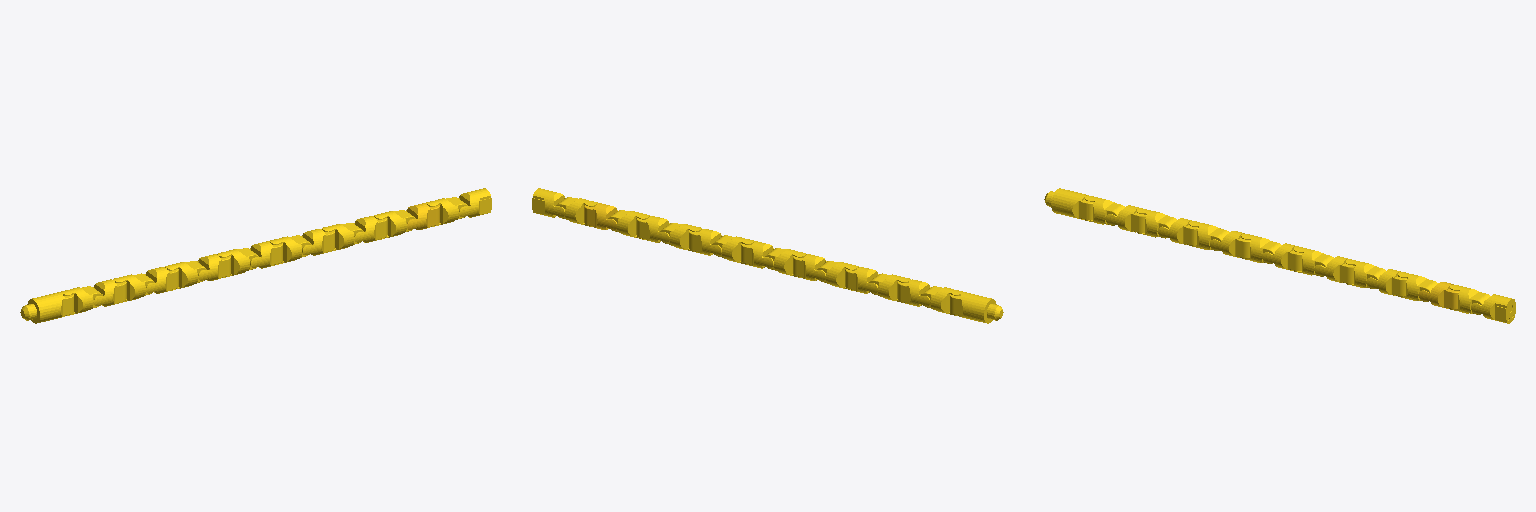
The robot description file, URDF, robot "kanake6_sim":
<?xml version="1.0" encoding="utf-8"?>
<!-- This URDF was automatically created by SolidWorks to URDF Exporter! Originally created by Stephen Brawner (brawner@gmail.com) 
     Commit Version: 1.6.0-1-g15f4949  Build Version: 1.6.7594.29634
     For more information, please see http://wiki.ros.org/sw_urdf_exporter -->
<robot
  name="kanake6_sim">
  <link
    name="tail">
    <inertial>
      <origin
        xyz="0.042357 2.0001E-08 -2.3091E-09"
        rpy="0 0 0" />
      <mass
        value="0.097262" />
      <inertia
        ixx="1.3388E-05"
        ixy="-1.0303E-11"
        ixz="1.1792E-12"
        iyy="4.4738E-05"
        iyz="-3.263E-13"
        izz="4.3885E-05" />
    </inertial>
    <visual>
      <origin
        xyz="0 0 0"
        rpy="0 0 0" />
      <geometry>
        <mesh
          filename="package://kanake6_sim/meshes/tail.STL" />
      </geometry>
      <material
        name="">
        <color
          rgba="1 0.8629 0.1568 1" />
      </material>
    </visual>
    <collision>
      <origin
        xyz="0 0 0"
        rpy="0 0 0" />
      <geometry>
        <mesh
          filename="package://kanake6_sim/meshes/tail.STL" />
      </geometry>
    </collision>
  </link>
  <link
    name="Link15">
    <inertial>
      <origin
        xyz="0.028014 -4.451E-09 2.2161E-08"
        rpy="0 0 0" />
      <mass
        value="0.06907" />
      <inertia
        ixx="9.6694E-06"
        ixy="-1.3944E-11"
        ixz="8.3913E-12"
        iyy="1.5822E-05"
        iyz="9.5867E-11"
        izz="1.5931E-05" />
    </inertial>
    <visual>
      <origin
        xyz="0 0 0"
        rpy="0 0 0" />
      <geometry>
        <mesh
          filename="package://kanake6_sim/meshes/Link15.STL" />
      </geometry>
      <material
        name="">
        <color
          rgba="1 0.8629 0.1568 1" />
      </material>
    </visual>
    <collision>
      <origin
        xyz="0 0 0"
        rpy="0 0 0" />
      <geometry>
        <mesh
          filename="package://kanake6_sim/meshes/Link15.STL" />
      </geometry>
    </collision>
  </link>
  <joint
    name="j16"
    type="revolute">
    <origin
      xyz="0.07155 0 0"
      rpy="0 0 0" />
    <parent
      link="tail" />
    <child
      link="Link15" />
    <axis
      xyz="0 0 1" />
    <limit
      effort="10"
      velocity="10" />
  </joint>
  <link
    name="Link14">
    <inertial>
      <origin
        xyz="0.028014 -4.451E-09 2.2161E-08"
        rpy="0 0 0" />
      <mass
        value="0.06907" />
      <inertia
        ixx="9.6694E-06"
        ixy="-1.3944E-11"
        ixz="8.3913E-12"
        iyy="1.5822E-05"
        iyz="9.5867E-11"
        izz="1.5931E-05" />
    </inertial>
    <visual>
      <origin
        xyz="0 0 0"
        rpy="0 0 0" />
      <geometry>
        <mesh
          filename="package://kanake6_sim/meshes/Link14.STL" />
      </geometry>
      <material
        name="">
        <color
          rgba="1 0.8629 0.1568 1" />
      </material>
    </visual>
    <collision>
      <origin
        xyz="0 0 0"
        rpy="0 0 0" />
      <geometry>
        <mesh
          filename="package://kanake6_sim/meshes/Link14.STL" />
      </geometry>
    </collision>
  </link>
  <joint
    name="j15"
    type="revolute">
    <origin
      xyz="0.0426 0 0"
      rpy="-1.5708 0 0" />
    <parent
      link="Link15" />
    <child
      link="Link14" />
    <axis
      xyz="0 0 1" />
    <limit
      effort="10"
      velocity="10" />
  </joint>
  <link
    name="Link13">
    <inertial>
      <origin
        xyz="0.028014 -4.451E-09 2.2161E-08"
        rpy="0 0 0" />
      <mass
        value="0.06907" />
      <inertia
        ixx="9.6694E-06"
        ixy="-1.3944E-11"
        ixz="8.3913E-12"
        iyy="1.5822E-05"
        iyz="9.5867E-11"
        izz="1.5931E-05" />
    </inertial>
    <visual>
      <origin
        xyz="0 0 0"
        rpy="0 0 0" />
      <geometry>
        <mesh
          filename="package://kanake6_sim/meshes/Link13.STL" />
      </geometry>
      <material
        name="">
        <color
          rgba="1 0.8629 0.1568 1" />
      </material>
    </visual>
    <collision>
      <origin
        xyz="0 0 0"
        rpy="0 0 0" />
      <geometry>
        <mesh
          filename="package://kanake6_sim/meshes/Link13.STL" />
      </geometry>
    </collision>
  </link>
  <joint
    name="j14"
    type="revolute">
    <origin
      xyz="0.0426 0 0"
      rpy="1.5708 0 0" />
    <parent
      link="Link14" />
    <child
      link="Link13" />
    <axis
      xyz="0 0 1" />
    <limit
      effort="10"
      velocity="10" />
  </joint>
  <link
    name="Link12">
    <inertial>
      <origin
        xyz="0.028014 -4.451E-09 2.2161E-08"
        rpy="0 0 0" />
      <mass
        value="0.06907" />
      <inertia
        ixx="9.6694E-06"
        ixy="-1.3944E-11"
        ixz="8.3913E-12"
        iyy="1.5822E-05"
        iyz="9.5867E-11"
        izz="1.5931E-05" />
    </inertial>
    <visual>
      <origin
        xyz="0 0 0"
        rpy="0 0 0" />
      <geometry>
        <mesh
          filename="package://kanake6_sim/meshes/Link12.STL" />
      </geometry>
      <material
        name="">
        <color
          rgba="1 0.8629 0.1568 1" />
      </material>
    </visual>
    <collision>
      <origin
        xyz="0 0 0"
        rpy="0 0 0" />
      <geometry>
        <mesh
          filename="package://kanake6_sim/meshes/Link12.STL" />
      </geometry>
    </collision>
  </link>
  <joint
    name="j13"
    type="revolute">
    <origin
      xyz="0.0426 0 0"
      rpy="-1.5708 0 0" />
    <parent
      link="Link13" />
    <child
      link="Link12" />
    <axis
      xyz="0 0 1" />
    <limit
      effort="10"
      velocity="10" />
  </joint>
  <link
    name="Link11">
    <inertial>
      <origin
        xyz="0.028014 -4.451E-09 2.2161E-08"
        rpy="0 0 0" />
      <mass
        value="0.06907" />
      <inertia
        ixx="9.6694E-06"
        ixy="-1.3944E-11"
        ixz="8.3913E-12"
        iyy="1.5822E-05"
        iyz="9.5867E-11"
        izz="1.5931E-05" />
    </inertial>
    <visual>
      <origin
        xyz="0 0 0"
        rpy="0 0 0" />
      <geometry>
        <mesh
          filename="package://kanake6_sim/meshes/Link11.STL" />
      </geometry>
      <material
        name="">
        <color
          rgba="1 0.8629 0.1568 1" />
      </material>
    </visual>
    <collision>
      <origin
        xyz="0 0 0"
        rpy="0 0 0" />
      <geometry>
        <mesh
          filename="package://kanake6_sim/meshes/Link11.STL" />
      </geometry>
    </collision>
  </link>
  <joint
    name="j12"
    type="revolute">
    <origin
      xyz="0.0426 0 0"
      rpy="1.5708 0 0" />
    <parent
      link="Link12" />
    <child
      link="Link11" />
    <axis
      xyz="0 0 1" />
    <limit
      effort="10"
      velocity="10" />
  </joint>
  <link
    name="Link10">
    <inertial>
      <origin
        xyz="0.028014 -4.451E-09 2.2161E-08"
        rpy="0 0 0" />
      <mass
        value="0.06907" />
      <inertia
        ixx="9.6694E-06"
        ixy="-1.3944E-11"
        ixz="8.3913E-12"
        iyy="1.5822E-05"
        iyz="9.5867E-11"
        izz="1.5931E-05" />
    </inertial>
    <visual>
      <origin
        xyz="0 0 0"
        rpy="0 0 0" />
      <geometry>
        <mesh
          filename="package://kanake6_sim/meshes/Link10.STL" />
      </geometry>
      <material
        name="">
        <color
          rgba="1 0.8629 0.1568 1" />
      </material>
    </visual>
    <collision>
      <origin
        xyz="0 0 0"
        rpy="0 0 0" />
      <geometry>
        <mesh
          filename="package://kanake6_sim/meshes/Link10.STL" />
      </geometry>
    </collision>
  </link>
  <joint
    name="j11"
    type="revolute">
    <origin
      xyz="0.0426 0 0"
      rpy="-1.5708 0 0" />
    <parent
      link="Link11" />
    <child
      link="Link10" />
    <axis
      xyz="0 0 1" />
    <limit
      effort="10"
      velocity="10" />
  </joint>
  <link
    name="Link9">
    <inertial>
      <origin
        xyz="0.028014 -4.451E-09 2.2161E-08"
        rpy="0 0 0" />
      <mass
        value="0.06907" />
      <inertia
        ixx="9.6694E-06"
        ixy="-1.3944E-11"
        ixz="8.3913E-12"
        iyy="1.5822E-05"
        iyz="9.5867E-11"
        izz="1.5931E-05" />
    </inertial>
    <visual>
      <origin
        xyz="0 0 0"
        rpy="0 0 0" />
      <geometry>
        <mesh
          filename="package://kanake6_sim/meshes/Link9.STL" />
      </geometry>
      <material
        name="">
        <color
          rgba="1 0.8629 0.1568 1" />
      </material>
    </visual>
    <collision>
      <origin
        xyz="0 0 0"
        rpy="0 0 0" />
      <geometry>
        <mesh
          filename="package://kanake6_sim/meshes/Link9.STL" />
      </geometry>
    </collision>
  </link>
  <joint
    name="j10"
    type="revolute">
    <origin
      xyz="0.0426 0 0"
      rpy="1.5708 0 0" />
    <parent
      link="Link10" />
    <child
      link="Link9" />
    <axis
      xyz="0 0 1" />
    <limit
      effort="10"
      velocity="10" />
  </joint>
  <link
    name="Link8">
    <inertial>
      <origin
        xyz="0.028014 -4.451E-09 2.2161E-08"
        rpy="0 0 0" />
      <mass
        value="0.06907" />
      <inertia
        ixx="9.6694E-06"
        ixy="-1.3944E-11"
        ixz="8.3913E-12"
        iyy="1.5822E-05"
        iyz="9.5867E-11"
        izz="1.5931E-05" />
    </inertial>
    <visual>
      <origin
        xyz="0 0 0"
        rpy="0 0 0" />
      <geometry>
        <mesh
          filename="package://kanake6_sim/meshes/Link8.STL" />
      </geometry>
      <material
        name="">
        <color
          rgba="1 0.8629 0.1568 1" />
      </material>
    </visual>
    <collision>
      <origin
        xyz="0 0 0"
        rpy="0 0 0" />
      <geometry>
        <mesh
          filename="package://kanake6_sim/meshes/Link8.STL" />
      </geometry>
    </collision>
  </link>
  <joint
    name="j9"
    type="revolute">
    <origin
      xyz="0.0426 0 0"
      rpy="-1.5708 0 0" />
    <parent
      link="Link9" />
    <child
      link="Link8" />
    <axis
      xyz="0 0 1" />
    <limit
      effort="10"
      velocity="10" />
  </joint>
  <link
    name="Link7">
    <inertial>
      <origin
        xyz="0.028014 -4.451E-09 2.2161E-08"
        rpy="0 0 0" />
      <mass
        value="0.06907" />
      <inertia
        ixx="9.6694E-06"
        ixy="-1.3944E-11"
        ixz="8.3913E-12"
        iyy="1.5822E-05"
        iyz="9.5867E-11"
        izz="1.5931E-05" />
    </inertial>
    <visual>
      <origin
        xyz="0 0 0"
        rpy="0 0 0" />
      <geometry>
        <mesh
          filename="package://kanake6_sim/meshes/Link7.STL" />
      </geometry>
      <material
        name="">
        <color
          rgba="1 0.8629 0.1568 1" />
      </material>
    </visual>
    <collision>
      <origin
        xyz="0 0 0"
        rpy="0 0 0" />
      <geometry>
        <mesh
          filename="package://kanake6_sim/meshes/Link7.STL" />
      </geometry>
    </collision>
  </link>
  <joint
    name="j8"
    type="revolute">
    <origin
      xyz="0.0426 0 0"
      rpy="1.5708 0 0" />
    <parent
      link="Link8" />
    <child
      link="Link7" />
    <axis
      xyz="0 0 1" />
    <limit
      effort="10"
      velocity="10" />
  </joint>
  <link
    name="Link6">
    <inertial>
      <origin
        xyz="0.028014 -4.451E-09 2.2161E-08"
        rpy="0 0 0" />
      <mass
        value="0.06907" />
      <inertia
        ixx="9.6694E-06"
        ixy="-1.3944E-11"
        ixz="8.3913E-12"
        iyy="1.5822E-05"
        iyz="9.5867E-11"
        izz="1.5931E-05" />
    </inertial>
    <visual>
      <origin
        xyz="0 0 0"
        rpy="0 0 0" />
      <geometry>
        <mesh
          filename="package://kanake6_sim/meshes/Link6.STL" />
      </geometry>
      <material
        name="">
        <color
          rgba="1 0.8629 0.1568 1" />
      </material>
    </visual>
    <collision>
      <origin
        xyz="0 0 0"
        rpy="0 0 0" />
      <geometry>
        <mesh
          filename="package://kanake6_sim/meshes/Link6.STL" />
      </geometry>
    </collision>
  </link>
  <joint
    name="j7"
    type="revolute">
    <origin
      xyz="0.0426 0 0"
      rpy="-1.5708 0 0" />
    <parent
      link="Link7" />
    <child
      link="Link6" />
    <axis
      xyz="0 0 1" />
    <limit
      effort="10"
      velocity="10" />
  </joint>
  <link
    name="Link5">
    <inertial>
      <origin
        xyz="0.028014 -4.451E-09 2.2161E-08"
        rpy="0 0 0" />
      <mass
        value="0.06907" />
      <inertia
        ixx="9.6694E-06"
        ixy="-1.3944E-11"
        ixz="8.3913E-12"
        iyy="1.5822E-05"
        iyz="9.5867E-11"
        izz="1.5931E-05" />
    </inertial>
    <visual>
      <origin
        xyz="0 0 0"
        rpy="0 0 0" />
      <geometry>
        <mesh
          filename="package://kanake6_sim/meshes/Link5.STL" />
      </geometry>
      <material
        name="">
        <color
          rgba="1 0.8629 0.1568 1" />
      </material>
    </visual>
    <collision>
      <origin
        xyz="0 0 0"
        rpy="0 0 0" />
      <geometry>
        <mesh
          filename="package://kanake6_sim/meshes/Link5.STL" />
      </geometry>
    </collision>
  </link>
  <joint
    name="j6"
    type="revolute">
    <origin
      xyz="0.0426 0 0"
      rpy="1.5708 0 0" />
    <parent
      link="Link6" />
    <child
      link="Link5" />
    <axis
      xyz="0 0 1" />
    <limit
      effort="10"
      velocity="10" />
  </joint>
  <link
    name="Link4">
    <inertial>
      <origin
        xyz="0.028014 -4.451E-09 2.2161E-08"
        rpy="0 0 0" />
      <mass
        value="0.06907" />
      <inertia
        ixx="9.6694E-06"
        ixy="-1.3944E-11"
        ixz="8.3913E-12"
        iyy="1.5822E-05"
        iyz="9.5867E-11"
        izz="1.5931E-05" />
    </inertial>
    <visual>
      <origin
        xyz="0 0 0"
        rpy="0 0 0" />
      <geometry>
        <mesh
          filename="package://kanake6_sim/meshes/Link4.STL" />
      </geometry>
      <material
        name="">
        <color
          rgba="1 0.8629 0.1568 1" />
      </material>
    </visual>
    <collision>
      <origin
        xyz="0 0 0"
        rpy="0 0 0" />
      <geometry>
        <mesh
          filename="package://kanake6_sim/meshes/Link4.STL" />
      </geometry>
    </collision>
  </link>
  <joint
    name="j5"
    type="revolute">
    <origin
      xyz="0.0426 0 0"
      rpy="-1.5708 0 0" />
    <parent
      link="Link5" />
    <child
      link="Link4" />
    <axis
      xyz="0 0 1" />
    <limit
      effort="10"
      velocity="10" />
  </joint>
  <link
    name="Link3">
    <inertial>
      <origin
        xyz="0.028014 -4.451E-09 2.2161E-08"
        rpy="0 0 0" />
      <mass
        value="0.06907" />
      <inertia
        ixx="9.6694E-06"
        ixy="-1.3944E-11"
        ixz="8.3913E-12"
        iyy="1.5822E-05"
        iyz="9.5867E-11"
        izz="1.5931E-05" />
    </inertial>
    <visual>
      <origin
        xyz="0 0 0"
        rpy="0 0 0" />
      <geometry>
        <mesh
          filename="package://kanake6_sim/meshes/Link3.STL" />
      </geometry>
      <material
        name="">
        <color
          rgba="1 0.8629 0.1568 1" />
      </material>
    </visual>
    <collision>
      <origin
        xyz="0 0 0"
        rpy="0 0 0" />
      <geometry>
        <mesh
          filename="package://kanake6_sim/meshes/Link3.STL" />
      </geometry>
    </collision>
  </link>
  <joint
    name="j4"
    type="revolute">
    <origin
      xyz="0.0426 0 0"
      rpy="1.5708 0 0" />
    <parent
      link="Link4" />
    <child
      link="Link3" />
    <axis
      xyz="0 0 1" />
    <limit
      effort="10"
      velocity="10" />
  </joint>
  <link
    name="Link2">
    <inertial>
      <origin
        xyz="0.028014 -4.451E-09 2.2161E-08"
        rpy="0 0 0" />
      <mass
        value="0.06907" />
      <inertia
        ixx="9.6694E-06"
        ixy="-1.3944E-11"
        ixz="8.3913E-12"
        iyy="1.5822E-05"
        iyz="9.5867E-11"
        izz="1.5931E-05" />
    </inertial>
    <visual>
      <origin
        xyz="0 0 0"
        rpy="0 0 0" />
      <geometry>
        <mesh
          filename="package://kanake6_sim/meshes/Link2.STL" />
      </geometry>
      <material
        name="">
        <color
          rgba="1 0.8269 0.1568 1" />
      </material>
    </visual>
    <collision>
      <origin
        xyz="0 0 0"
        rpy="0 0 0" />
      <geometry>
        <mesh
          filename="package://kanake6_sim/meshes/Link2.STL" />
      </geometry>
    </collision>
  </link>
  <joint
    name="j3"
    type="revolute">
    <origin
      xyz="0.0426 0 0"
      rpy="-1.5708 0 0" />
    <parent
      link="Link3" />
    <child
      link="Link2" />
    <axis
      xyz="0 0 1" />
    <limit
      effort="10"
      velocity="10" />
  </joint>
  <link
    name="Link1">
    <inertial>
      <origin
        xyz="0.028014 -4.451E-09 2.2161E-08"
        rpy="0 0 0" />
      <mass
        value="0.06907" />
      <inertia
        ixx="9.6694E-06"
        ixy="-1.3944E-11"
        ixz="8.3913E-12"
        iyy="1.5822E-05"
        iyz="9.5867E-11"
        izz="1.5931E-05" />
    </inertial>
    <visual>
      <origin
        xyz="0 0 0"
        rpy="0 0 0" />
      <geometry>
        <mesh
          filename="package://kanake6_sim/meshes/Link1.STL" />
      </geometry>
      <material
        name="">
        <color
          rgba="1 0.8629 0.1568 1" />
      </material>
    </visual>
    <collision>
      <origin
        xyz="0 0 0"
        rpy="0 0 0" />
      <geometry>
        <mesh
          filename="package://kanake6_sim/meshes/Link1.STL" />
      </geometry>
    </collision>
  </link>
  <joint
    name="j2"
    type="revolute">
    <origin
      xyz="0.0426 0 0"
      rpy="1.5708 0 0" />
    <parent
      link="Link2" />
    <child
      link="Link1" />
    <axis
      xyz="0 0 1" />
    <limit
      effort="10"
      velocity="10" />
  </joint>
  <link
    name="head">
    <inertial>
      <origin
        xyz="0.0275 1.7311E-06 -1.5899E-07"
        rpy="0 0 0" />
      <mass
        value="0.033765" />
      <inertia
        ixx="5.2247E-06"
        ixy="-1.1806E-09"
        ixz="-6.205E-11"
        iyy="7.0127E-06"
        iyz="3.0927E-11"
        izz="7.2231E-06" />
    </inertial>
    <visual>
      <origin
        xyz="0 0 0"
        rpy="0 0 0" />
      <geometry>
        <mesh
          filename="package://kanake6_sim/meshes/head.STL" />
      </geometry>
      <material
        name="">
        <color
          rgba="1 0.8629 0.1568 1" />
      </material>
    </visual>
    <collision>
      <origin
        xyz="0 0 0"
        rpy="0 0 0" />
      <geometry>
        <mesh
          filename="package://kanake6_sim/meshes/head.STL" />
      </geometry>
    </collision>
  </link>
  <joint
    name="j1"
    type="revolute">
    <origin
      xyz="0.0426 0 0"
      rpy="-1.5708 0 0" />
    <parent
      link="Link1" />
    <child
      link="head" />
    <axis
      xyz="0 0 1" />
    <limit
      effort="10"
      velocity="10" />
  </joint>
</robot>

--- Facts derived from the render (not from the file) ---
The picture shows the robot from 3 angles, left to right: view 1: azimuth 30°, elevation 25°; view 2: azimuth 150°, elevation 25°; view 3: azimuth 330°, elevation 25°; orthographic projection.
Model kanake6_sim with 17 links and 16 joints (16 revolute), rooted at tail, posed every joint at zero.
Visible links, largest first — view 1: tail, head, Link2, Link14, Link12, Link10, Link4, Link8, Link6, Link15, Link5, Link7 (+5 smaller); view 2: tail, head, Link2, Link4, Link14, Link12, Link10, Link8, Link6, Link15, Link5, Link7 (+5 smaller); view 3: tail, head, Link10, Link8, Link6, Link2, Link4, Link14, Link12, Link11, Link13, Link1 (+5 smaller).
Boxes of the visible links, x1,y1,x2,y2 form: tail: [20, 292, 73, 323]; head: [459, 188, 491, 217]; Link2: [406, 203, 439, 229]; Link14: [93, 279, 126, 306]; Link12: [145, 267, 178, 293]; Link10: [197, 254, 230, 280]; Link4: [354, 216, 387, 242]; Link8: [250, 241, 282, 268]; Link6: [302, 229, 334, 255]; Link15: [61, 286, 102, 315]; Link5: [322, 223, 363, 252]; Link7: [270, 235, 311, 265]; tail: [950, 292, 1003, 323]; head: [532, 188, 564, 217]; Link2: [584, 203, 617, 229]; Link4: [636, 216, 669, 242]; Link14: [897, 279, 930, 306]; Link12: [845, 267, 878, 293]; Link10: [793, 254, 826, 280]; Link8: [741, 241, 773, 268]; Link6: [689, 229, 721, 255]; Link15: [921, 286, 962, 315]; Link5: [660, 223, 701, 252]; Link7: [712, 235, 753, 265]; tail: [1044, 188, 1093, 220]; head: [1471, 294, 1515, 323]; Link10: [1210, 231, 1250, 258]; Link8: [1262, 243, 1302, 270]; Link6: [1314, 256, 1354, 283]; Link2: [1418, 282, 1459, 309]; Link4: [1366, 269, 1406, 296]; Link14: [1105, 205, 1146, 232]; Link12: [1157, 218, 1198, 245]; Link11: [1189, 221, 1229, 250]; Link13: [1137, 208, 1176, 238]; Link1: [1450, 285, 1490, 314].
Size in the robot's own frame: 0.7579 by 0.036 by 0.036 metres.
17 mesh visuals loaded from 17 distinct referenced files (17 binary STL).
